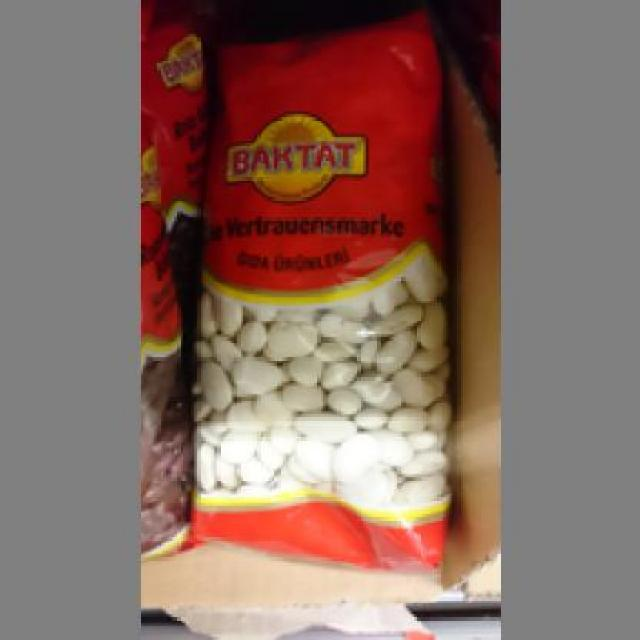Beans: (192, 17, 448, 586)
